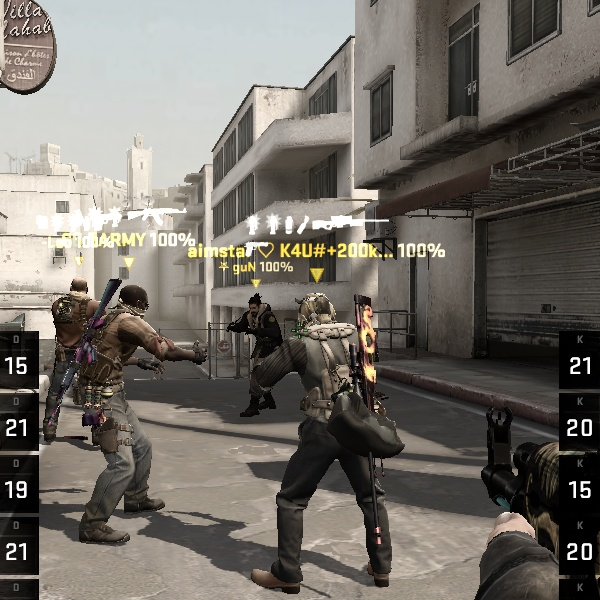t_body: (243, 282, 415, 596), (52, 268, 184, 550), (225, 288, 294, 417)
t_head: (290, 286, 345, 341), (106, 276, 160, 329)
